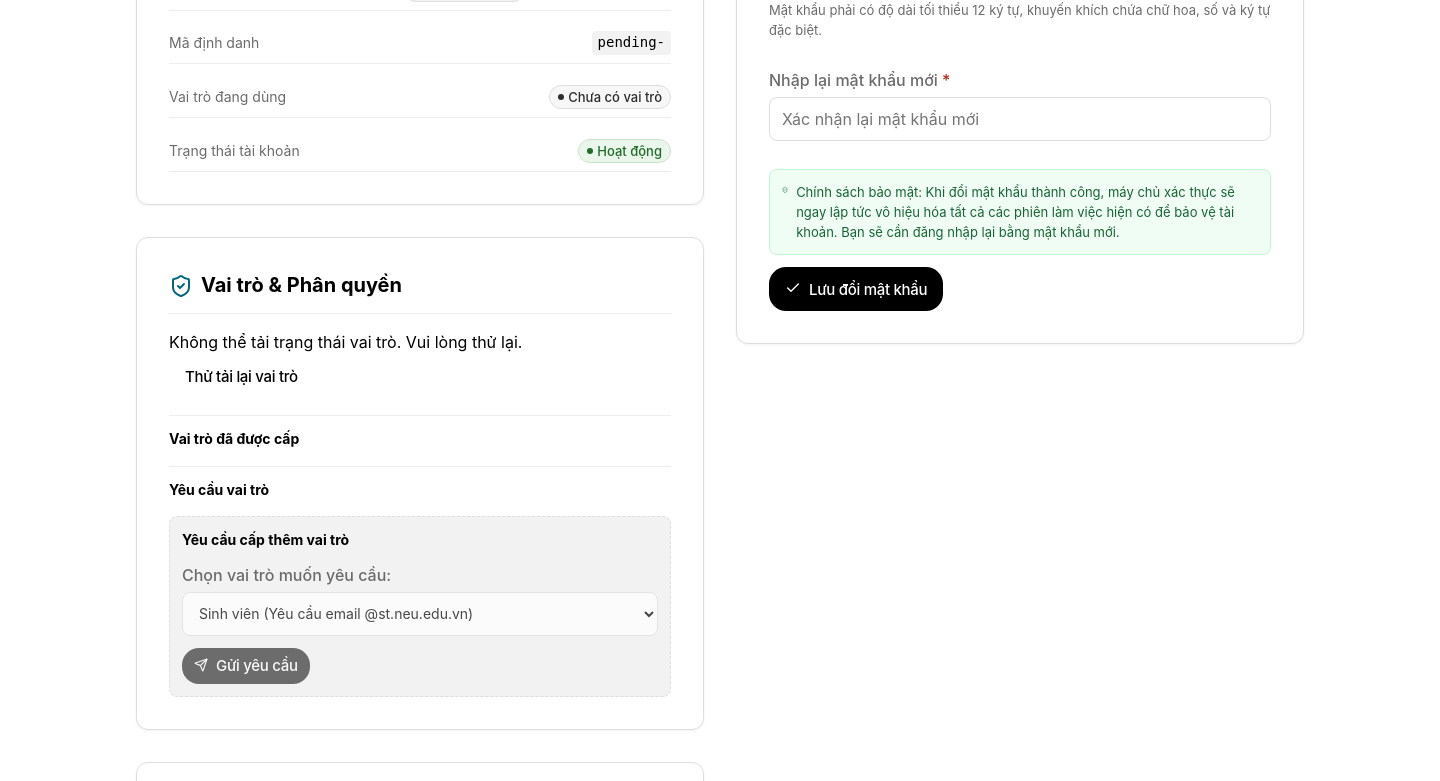
Test: T06 / B04 — Auth UI: Registration, Verification & Role State › T06 regression boundaries › keeps role fetch failure distinct from empty state and supports retry
(page scrolled)
Expected: the message shows "Không thể tải trạng thái vai trò", top-left (169, 332), bottom-right (522, 352)
Expected: the text "Chưa có vai trò nào được cấp quyền." is not shown
Click the button "Thử tải lại vai trò" at (241, 377), box top-left (169, 355), bottom-right (314, 399)
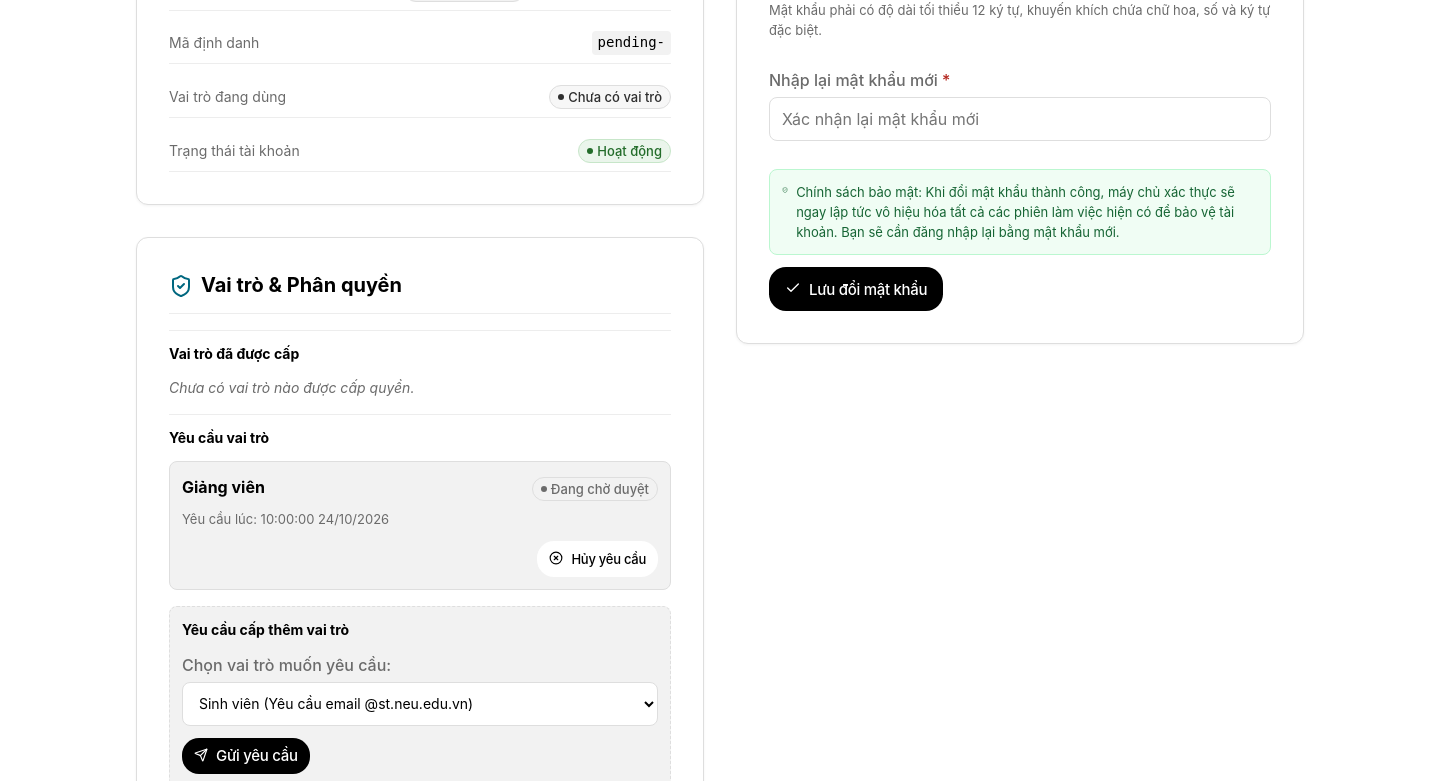
Now the text "Đang chờ duyệt" is shown, box top-left (551, 480), bottom-right (649, 498)
